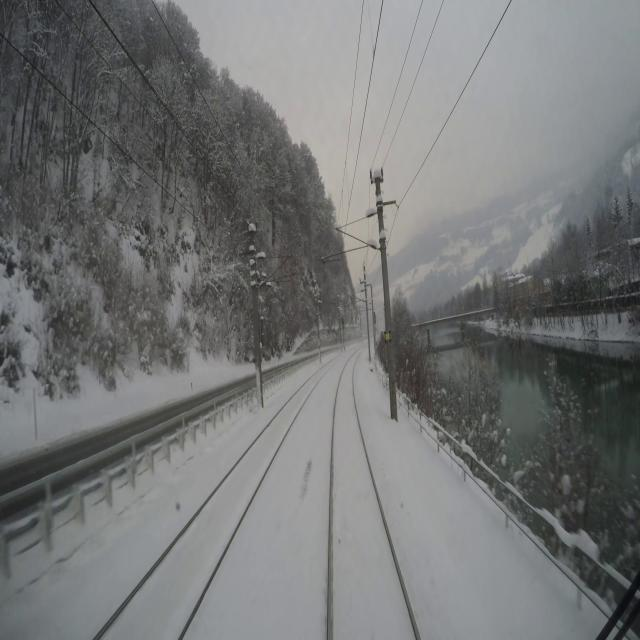rail-track: (100, 369, 324, 639), (332, 354, 415, 639)
